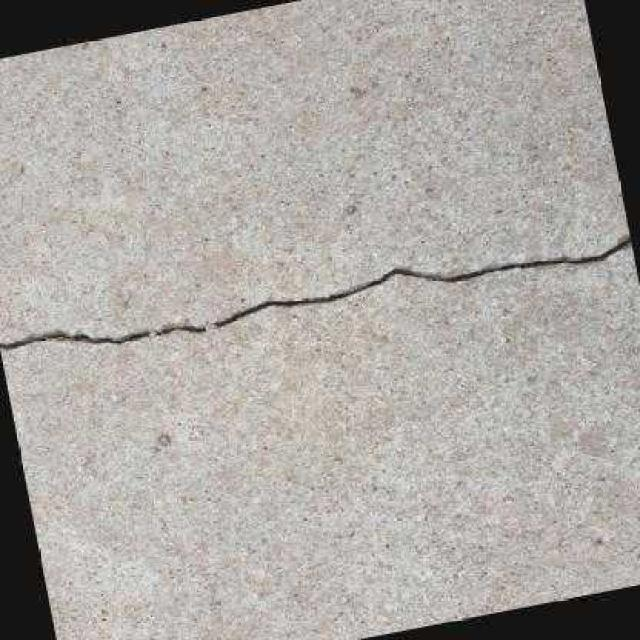D00: (0, 234, 631, 347)
